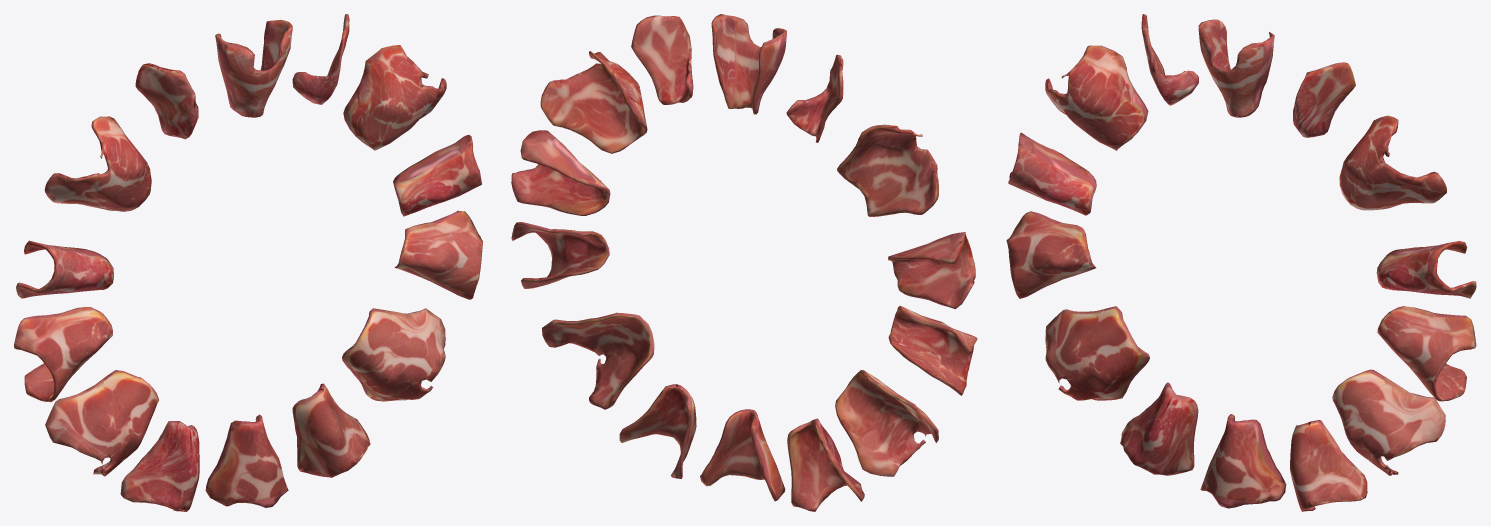
Rendered from Carnival_of_thin_baco_0618115918_texture.glb.
The picture shows the model from 3 angles, left to right: view 1: azimuth 30°, elevation 25°; view 2: azimuth 150°, elevation 25°; view 3: azimuth 330°, elevation 25°; orthographic projection.
Size of the model in its own units: 2 by 1.93 by 0.2089.
1 material, 1 textured.
